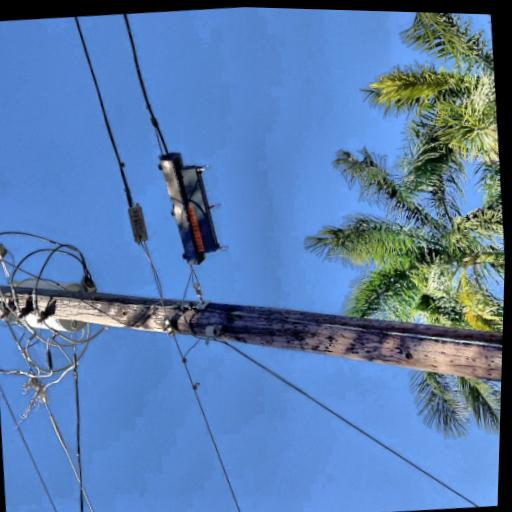pole: (0, 39, 163, 512)
street light: (0, 14, 98, 148)
transformer: (55, 144, 121, 244)
